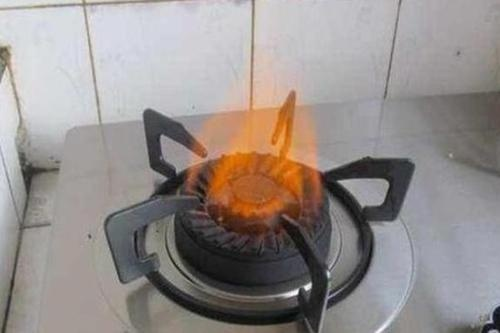fire: (182, 83, 325, 227)
